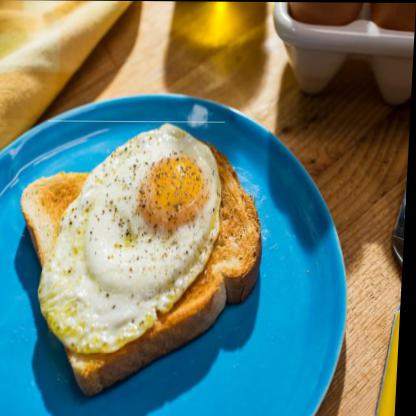egg: (39, 120, 227, 354)
